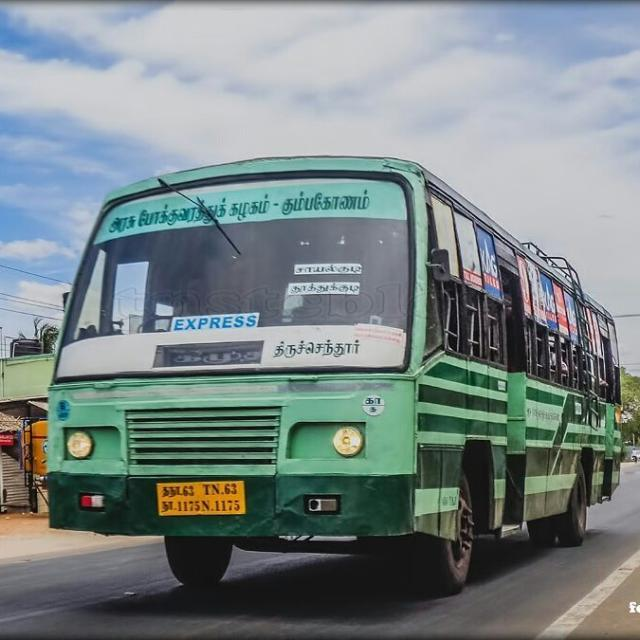Bus: (40, 153, 620, 592)
